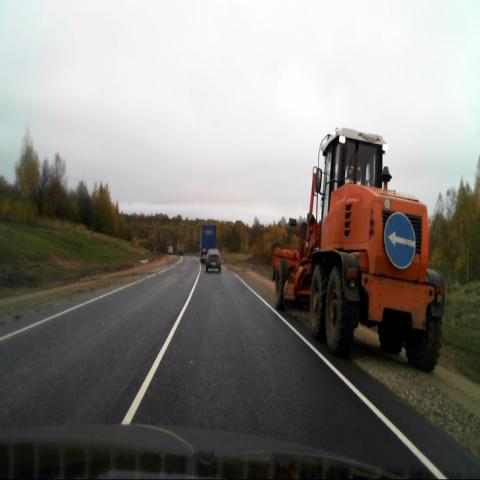4_1_2_2: (384, 211, 416, 269)
